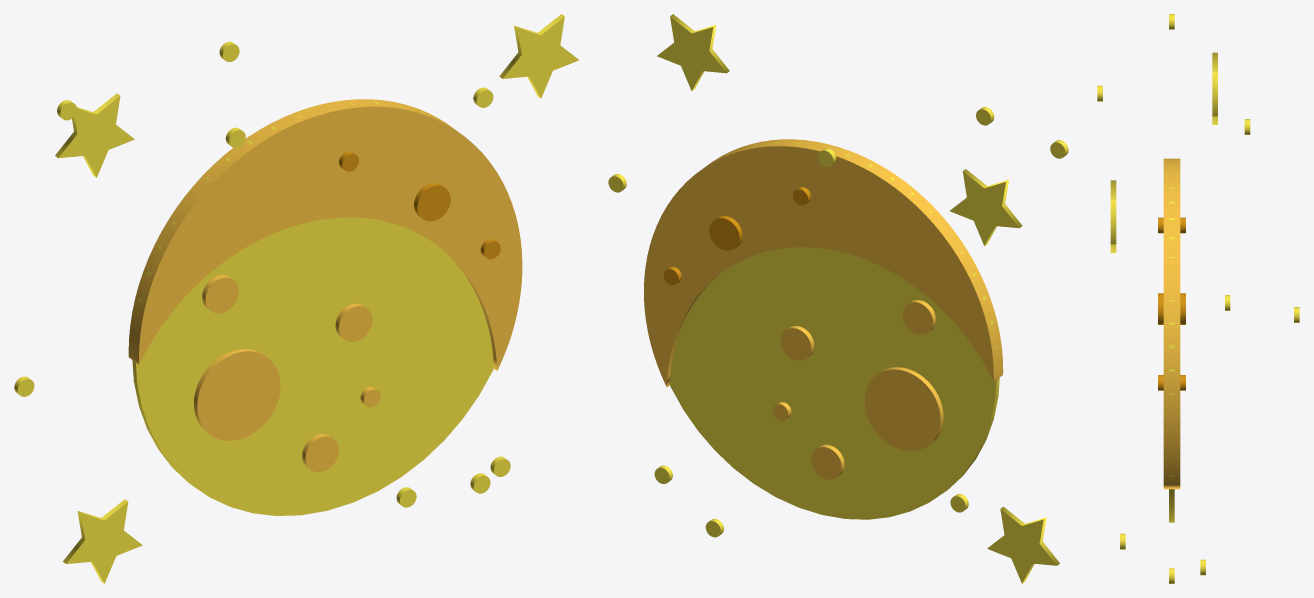
The model's file is moon.glb.
3 renders of one model, left to right at view 1: azimuth 30°, elevation 25°; view 2: azimuth 150°, elevation 25°; view 3: azimuth 270°, elevation 25°, orthographic. The views are drawn at different scales.
Visible parts, largest first — view 1: Curve, Curve.001, Curve.007, Curve.004, Curve.002, Curve.003, Curve.009, Curve.008, Curve.011, Curve.010; view 2: Curve, Curve.001, Curve.007, Curve.003, Curve.002, Curve.004, Curve.011, Curve.009, Curve.010, Curve.008; view 3: Curve.001, Curve.004, Curve.003, Curve, Curve.010.
Part boxes in pixels (x1,y1,x2,y2): Curve: [132, 101, 493, 515]; Curve.001: [128, 99, 522, 370]; Curve.007: [194, 349, 280, 440]; Curve.004: [499, 14, 579, 98]; Curve.002: [63, 499, 142, 583]; Curve.003: [55, 93, 134, 177]; Curve.009: [335, 303, 372, 341]; Curve.008: [202, 275, 238, 313]; Curve.011: [302, 434, 338, 472]; Curve.010: [414, 183, 450, 221]; Curve: [670, 141, 999, 519]; Curve.001: [644, 139, 1003, 387]; Curve.007: [864, 367, 943, 450]; Curve.003: [949, 169, 1022, 245]; Curve.002: [987, 506, 1059, 583]; Curve.004: [657, 14, 729, 90]; Curve.011: [811, 444, 844, 479]; Curve.009: [780, 326, 814, 360]; Curve.010: [709, 216, 742, 250]; Curve.008: [902, 300, 935, 334]; Curve.001: [1163, 158, 1180, 489]; Curve.004: [1110, 180, 1116, 252]; Curve.003: [1212, 52, 1217, 124]; Curve: [1169, 161, 1174, 522]; Curve.010: [1158, 293, 1185, 324].
Bounding box in the file's own units: 4.88 × 4.87 × 2.15.
